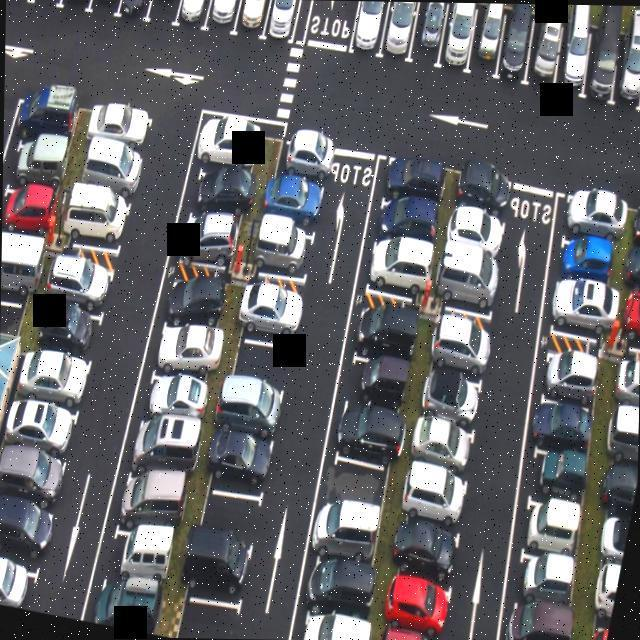car: (114, 468, 188, 548), (100, 526, 172, 600), (132, 412, 198, 488), (34, 296, 106, 365), (4, 395, 76, 462), (208, 432, 274, 503), (17, 346, 90, 410), (528, 444, 591, 514), (217, 373, 284, 438), (538, 348, 606, 412), (406, 464, 468, 534), (521, 500, 581, 572), (48, 253, 112, 319), (79, 140, 141, 208), (548, 278, 613, 342), (156, 317, 217, 384), (182, 208, 245, 272), (342, 354, 408, 415), (308, 561, 374, 621), (62, 190, 128, 250), (584, 18, 630, 104), (518, 548, 576, 616), (186, 552, 250, 612), (362, 246, 432, 300), (241, 283, 300, 346), (312, 512, 378, 568), (352, 302, 418, 358), (332, 408, 400, 462), (490, 9, 536, 88), (432, 2, 477, 82), (533, 402, 593, 462), (0, 492, 50, 564), (4, 144, 66, 202), (552, 12, 597, 91), (463, 3, 508, 82), (412, 415, 474, 472), (383, 156, 449, 209), (393, 582, 453, 640), (264, 178, 324, 236), (142, 374, 203, 431), (94, 582, 160, 634), (434, 319, 493, 377), (556, 233, 616, 289), (519, 19, 563, 95), (442, 257, 496, 318), (2, 185, 58, 242), (0, 446, 59, 499), (92, 101, 153, 152), (276, 137, 339, 186), (256, 227, 313, 281), (20, 96, 80, 147), (399, 526, 455, 580), (453, 165, 511, 217), (609, 19, 640, 116), (406, 1, 449, 70), (193, 165, 250, 217), (374, 202, 434, 250), (447, 205, 508, 251), (560, 196, 618, 244), (202, 121, 256, 172), (170, 274, 223, 325), (344, 0, 389, 60), (426, 374, 482, 421), (513, 598, 572, 640), (380, 1, 420, 60), (260, 0, 310, 41), (1, 249, 38, 304), (0, 553, 33, 608), (295, 614, 364, 640), (232, 0, 277, 39), (205, 0, 247, 38), (172, 0, 218, 34), (114, 0, 158, 29), (145, 0, 188, 29), (60, 0, 108, 13), (92, 0, 129, 13), (636, 30, 640, 119)
free: (324, 448, 389, 512), (201, 492, 264, 554), (232, 341, 291, 395), (177, 594, 240, 638), (0, 294, 21, 340)
